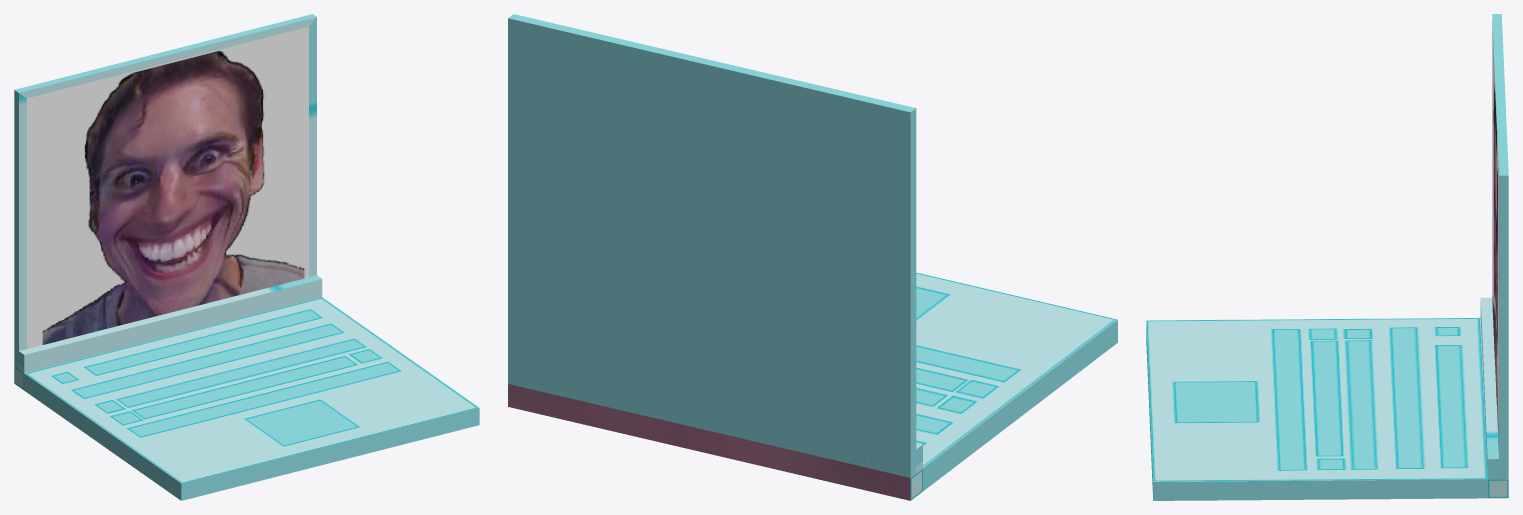
File: Idle.fbx
3 renders of one model, left to right at view 1: azimuth 30°, elevation 25°; view 2: azimuth 150°, elevation 25°; view 3: azimuth 270°, elevation 25°, orthographic. The views are drawn at different scales.
Visible parts, largest first — view 1: Cube.001; view 2: Cube.001; view 3: Cube.001.
Boxes of the visible parts, box(x1,y1,x2,y2) form: Cube.001: box(14, 14, 479, 500); Cube.001: box(508, 14, 1117, 500); Cube.001: box(1146, 14, 1508, 500).
Size of the model in its own units: 232 by 213 by 217.
Materials: 1 (1 with a texture image).
